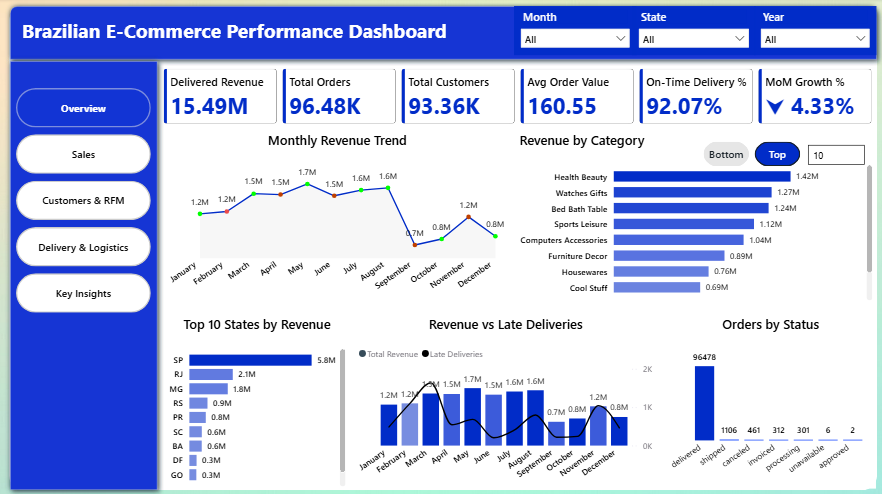

What the dashboard file says about the page in this screenshot:
{"tool":"powerbi","page":{"name":"Overview","canvas":[1280,720],"ordinal":0},"visuals":[{"type":"shape","box":[12.5,10.9,1255.1,700],"z":0},{"type":"shape","box":[6.2,3.1,1270.6,95.1],"z":1000},{"type":"shape","box":[6.2,82.3,230.7,637.7],"z":2000},{"type":"pageNavigator","box":[23.1,130.1,195.2,328.2],"z":3000},{"type":"slicer","fields":{"Values":["DimDate.MonthName"]},"box":[742.7,11.9,177.1,71.4],"z":4000},{"type":"slicer","fields":{"Values":["MasterTable.customer_state"]},"box":[913.9,11.9,178.6,71.4],"z":5000},{"type":"slicer","fields":{"Values":["DimDate.Year"]},"box":[1089.5,11.9,177.1,71.4],"z":6000},{"type":"lineChart","title":"Monthly Revenue Trend","fields":{"Category":["DimDate.MonthName"],"Y":["_Measure.Total Revenue"]},"box":[238.2,192.9,498.3,249.9],"z":7000},{"type":"clusteredBarChart","title":" Revenue by Category","fields":{"Y":["_Measure.Total Revenue"],"Category":["MasterTable.product_category_name_english"]},"box":[746.7,192.9,520.2,249.9],"z":8000},{"type":"cardVisual","fields":{"Data":["_Measure.Total Revenue","_Measure.Total Orders","_Measure.Total Customers","_Measure.Avg Order Value","_Measure.On-Time Delivery %","_Measure.Reveune vs Last Month"]},"box":[230.7,96.7,1034.4,90.8],"z":9000},{"type":"lineClusteredColumnComboChart","title":"Revenue vs Late Deliveries","fields":{"Category":["DimDate.MonthName"],"Y":["_Measure.Total Revenue"],"Y2":["_Measure.Late Deliveries"]},"box":[512.9,458.8,435.4,252.8],"z":10000},{"type":"clusteredBarChart","title":"Top 10 States by Revenue","fields":{"Category":["MasterTable.customer_state"],"Y":["_Measure.Total Revenue"]},"box":[238.2,458.8,265.9,252.8],"z":11000},{"type":"clusteredColumnChart","title":"Orders by Status","fields":{"Category":["MasterTable.order_status"],"Y":["_Measure.All Orders"]},"box":[961.5,458.8,305.4,251.3],"z":12000},{"type":"advancedSlicerVisual","fields":{"Values":["Top/Bottom.Value"]},"box":[1012.1,202.4,151.8,46.1],"z":13000},{"type":"slicer","fields":{"Values":["Parameter.Parameter"]},"box":[1155,202.4,102.7,75.9],"z":14000}]}

Visuals, with their boxes in screenshot pixels (x1, y1, x2, y2), scaled from the page's 1280x720 canvas onto the 882x494 screenshot:
shape: crop(9, 7, 873, 488)
shape: crop(4, 2, 880, 67)
shape: crop(4, 56, 163, 493)
pageNavigator: crop(16, 89, 150, 314)
slicer - DimDate.MonthName: crop(512, 8, 634, 57)
slicer - MasterTable.customer_state: crop(630, 8, 753, 57)
slicer - DimDate.Year: crop(751, 8, 873, 57)
"Monthly Revenue Trend" lineChart: crop(164, 132, 507, 304)
" Revenue by Category" clusteredBarChart: crop(515, 132, 873, 304)
cardVisual - _Measure.Total Revenue x _Measure.Total Orders: crop(159, 66, 872, 129)
"Revenue vs Late Deliveries" lineClusteredColumnComboChart: crop(353, 315, 653, 488)
"Top 10 States by Revenue" clusteredBarChart: crop(164, 315, 347, 488)
"Orders by Status" clusteredColumnChart: crop(663, 315, 873, 487)
advancedSlicerVisual - Top/Bottom.Value: crop(697, 139, 802, 170)
slicer - Parameter.Parameter: crop(796, 139, 867, 191)
